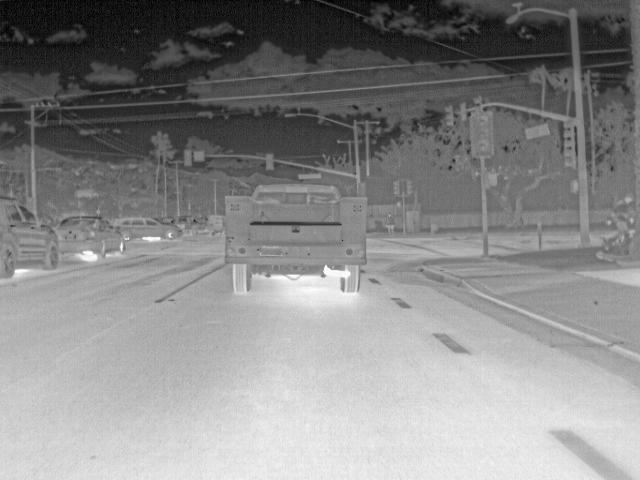car: (224, 180, 367, 292), (1, 200, 60, 274), (62, 212, 125, 258), (116, 214, 185, 242), (203, 213, 224, 237), (187, 215, 205, 235), (174, 214, 192, 228), (158, 216, 178, 224)
person: (601, 192, 637, 248), (384, 213, 396, 235)
